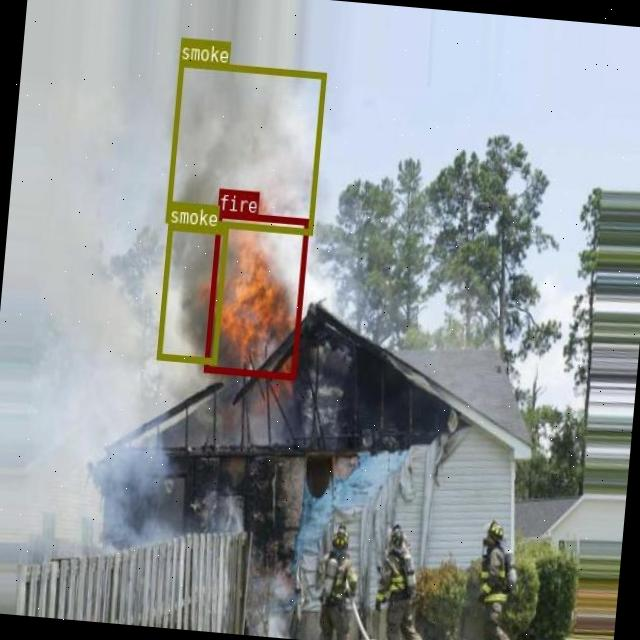fire: (202, 210, 309, 378)
smoke: (164, 59, 326, 233), (156, 222, 228, 363)
